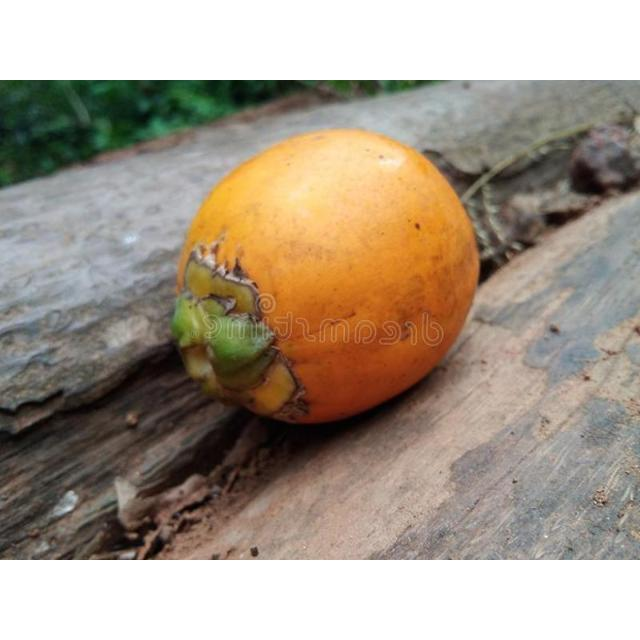good: (172, 129, 481, 429)
